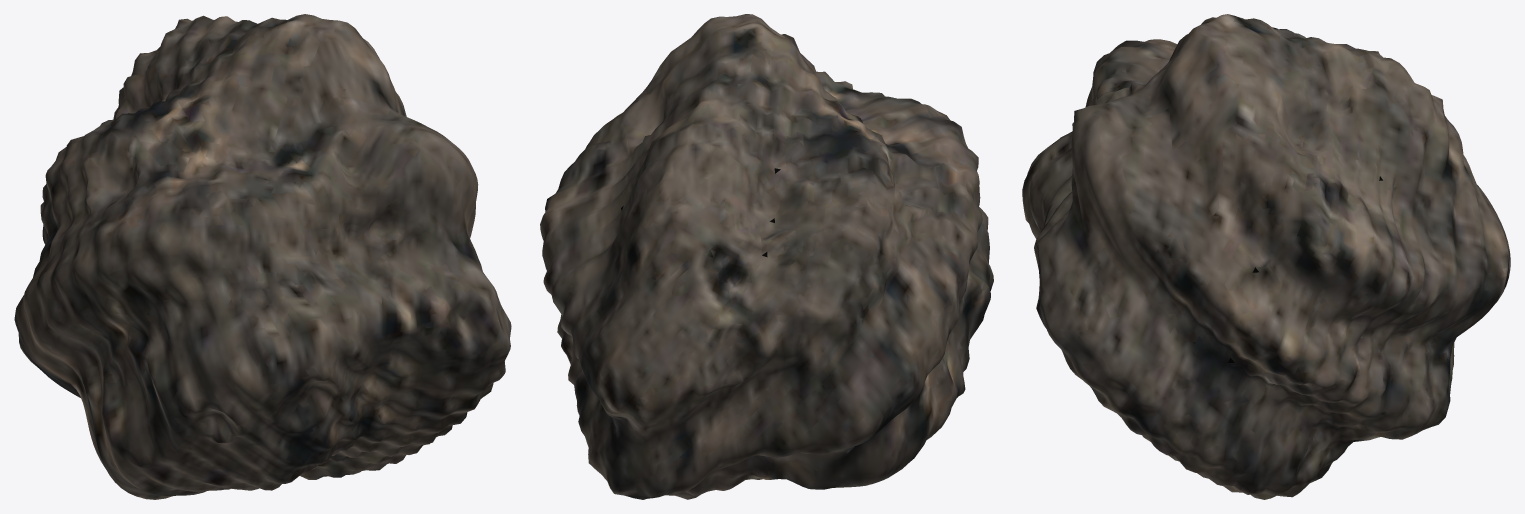
File: stony-previous.glb
3 views of the same model, side by side, from view 1: azimuth 30°, elevation 25°; view 2: azimuth 150°, elevation 25°; view 3: azimuth 270°, elevation 25° (orthographic). The views are drawn at different scales.
Visible parts, largest first — view 1: stony; view 2: stony; view 3: stony.
Part boxes in pixels (x1=…): stony: x1=14, y1=14, x2=511, y2=499; stony: x1=540, y1=14, x2=993, y2=499; stony: x1=1022, y1=14, x2=1510, y2=499.
Size of the model in its own units: 2.01 by 2.28 by 2.24.
1 material, 1 textured.
